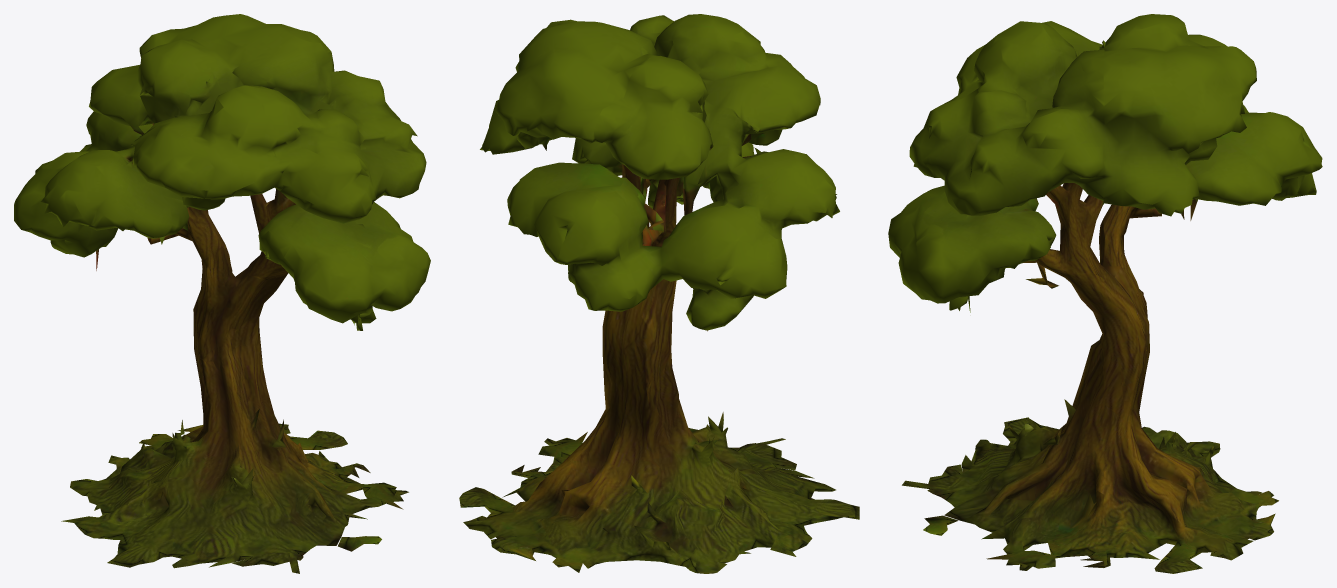
The model's file is oak+tree+3d+model.fbx.
The picture shows the model from 3 angles, left to right: view 1: azimuth 30°, elevation 25°; view 2: azimuth 150°, elevation 25°; view 3: azimuth 270°, elevation 25°; orthographic projection. The views are drawn at different scales.
Visible parts, largest first — view 1: tripo_node_d45e09bf; view 2: tripo_node_d45e09bf; view 3: tripo_node_d45e09bf.
Boxes of the visible parts, box(x1,y1,x2,y2) form: tripo_node_d45e09bf: box(14, 14, 430, 573); tripo_node_d45e09bf: box(459, 14, 859, 573); tripo_node_d45e09bf: box(888, 14, 1322, 573).
Size of the model in its own units: 0.755 by 0.9948 by 0.8293.
Materials: 1 (1 with a texture image).
